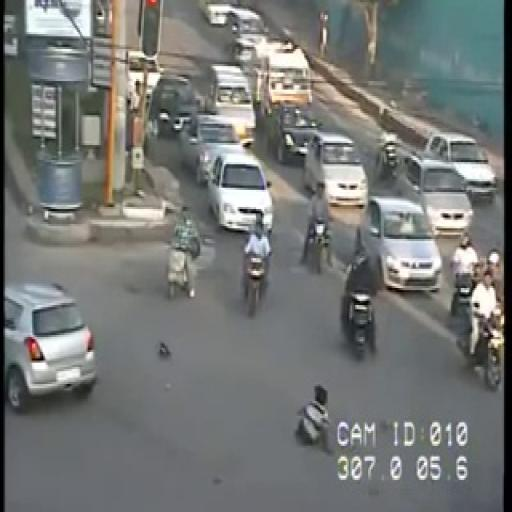Car: (4, 282, 96, 408), (361, 200, 443, 294), (400, 156, 474, 234), (206, 153, 273, 232), (195, 66, 257, 149), (180, 114, 250, 184), (428, 136, 498, 202), (304, 132, 367, 205), (255, 44, 312, 115), (148, 74, 202, 138), (268, 104, 322, 166), (226, 9, 272, 63), (126, 54, 164, 112)
Major Accident: (5, 276, 335, 474), (300, 181, 330, 268), (374, 134, 400, 182)
Motor: (341, 237, 380, 357), (163, 205, 200, 292), (292, 380, 332, 452), (243, 215, 272, 310), (469, 270, 498, 364), (450, 234, 478, 308), (487, 250, 503, 302)
